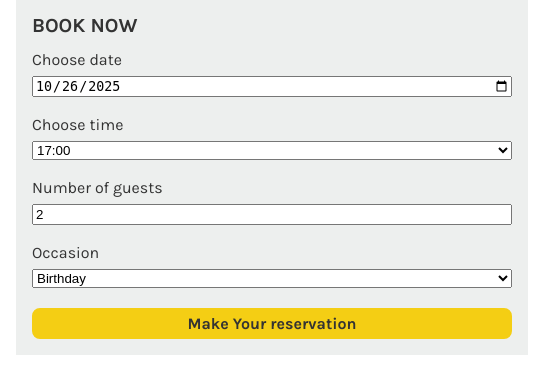
Test case: Form has empty guests
Clear the number field with test id "guests-input" at (272, 215), box [32,204,512,225]
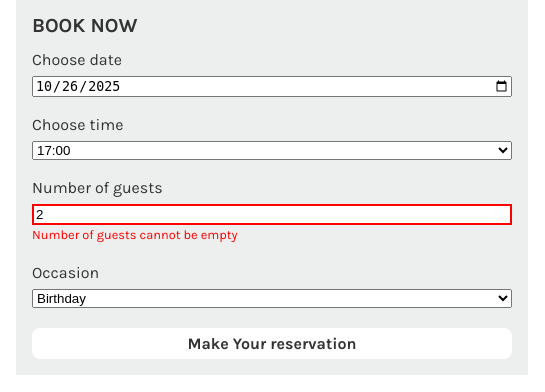
Expected: the text "Number of guests cannot be empty" is shown, [32,227,238,242]
Expected: the button is disabled, [32,328,512,358]
